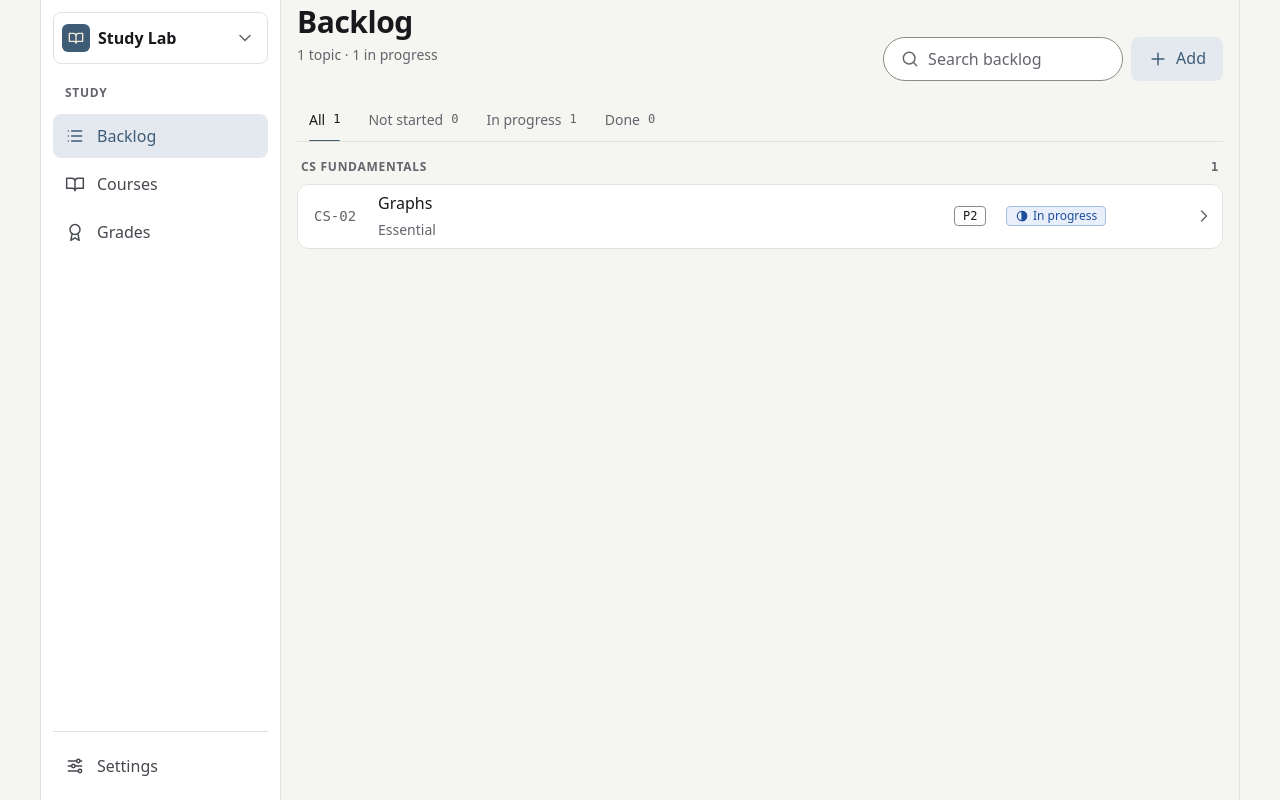
Topic sheet › opens from a row with the topic's values and facts
This screenshot has width=1280, height=800.
Click the button "CS-02 Graphs Essential" at (335, 216), box [298,185,1222,248]
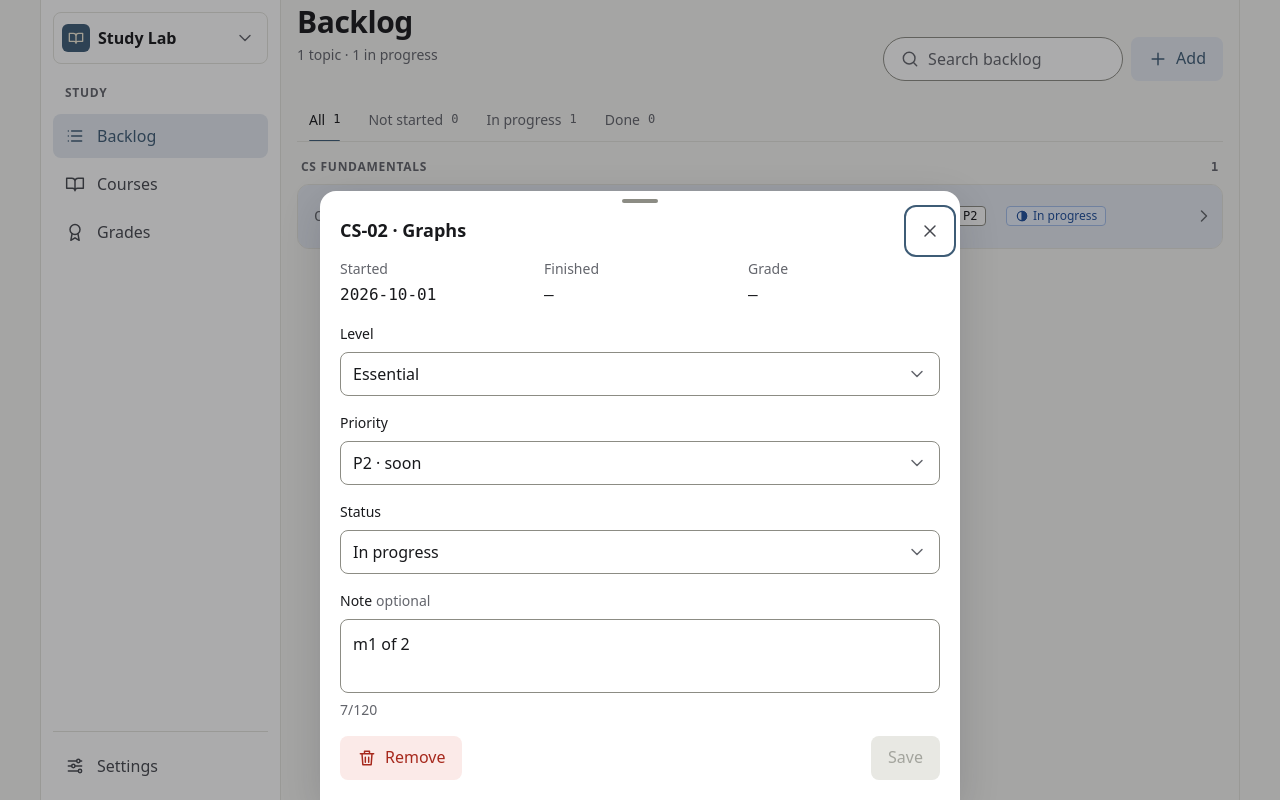
Expected: the dropdown labelled "Level" shows "Essential", [353,353,899,395]
Expected: the dropdown labelled "Priority" shows "P2 · soon", [353,442,899,484]
Expected: the dropdown labelled "Status" shows "In progress", [353,531,899,573]
